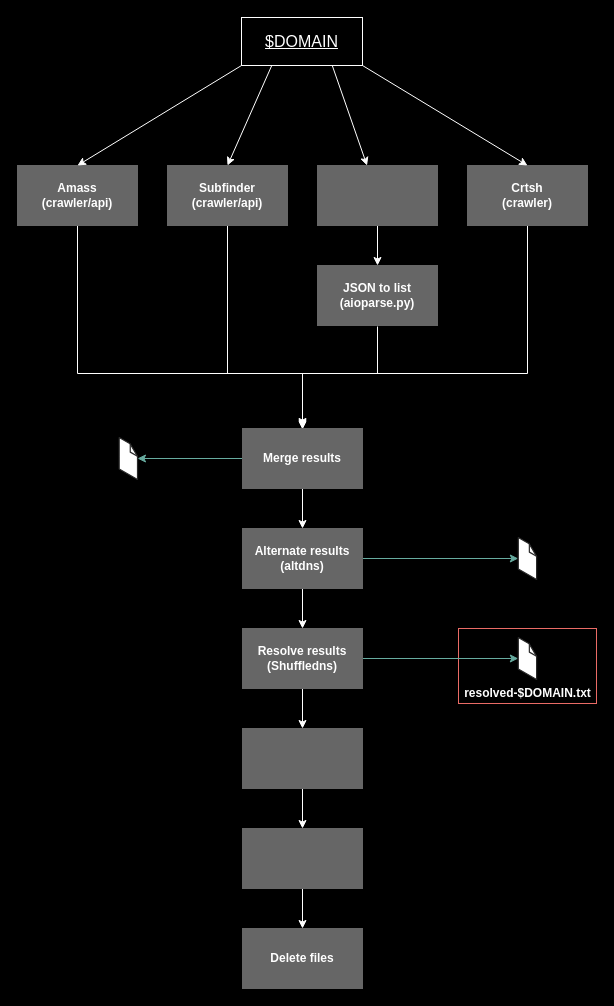
Some shapes in this 614 by 1006 pixel diagram are drawn without their labels. Here are the shapes that lost their labels. From the top down, the centre of each, then its label:
At (x=377, y=195): "Aiodnsbrute (brute force)".
At (x=128, y=458): "subdomains.txt".
At (x=527, y=558): "altdns-list-$DOMAIN.txt".
At (x=302, y=758): "Send Notification (message.py)".
At (x=302, y=858): "Copy from container to disk".
